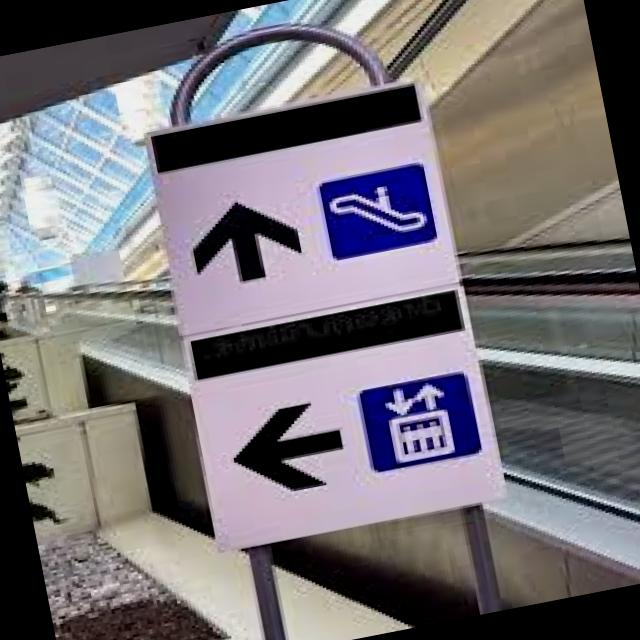lift_icon: (372, 375, 469, 470)
